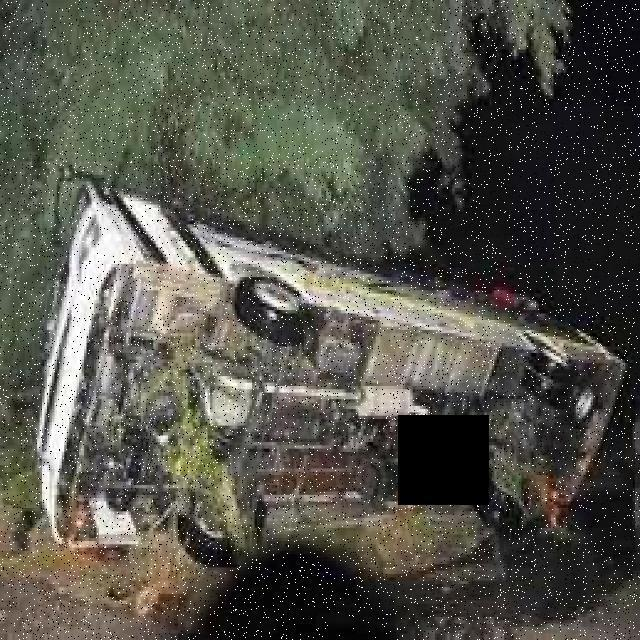accident: (30, 152, 633, 571)
